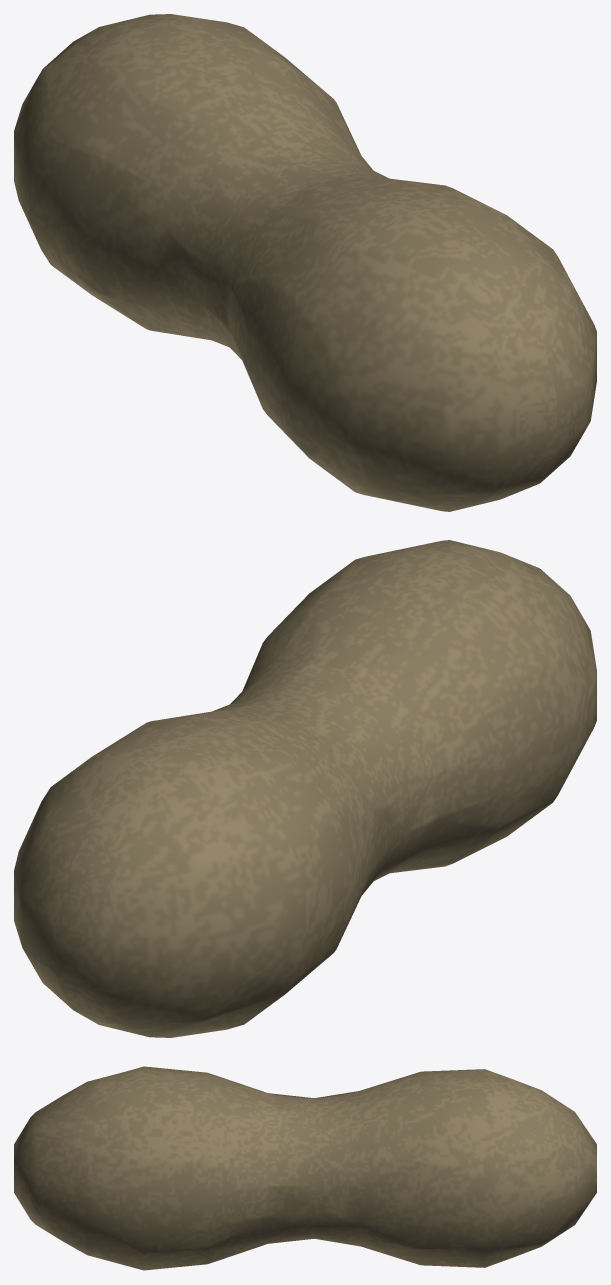
The model's file is peanut.glb.
3 views of the same model, one above another, from view 1: azimuth 30°, elevation 25°; view 2: azimuth 150°, elevation 25°; view 3: azimuth 270°, elevation 25° (orthographic). The views are drawn at different scales.
Visible parts, largest first — view 1: Erdnuss_lp_0; view 2: Erdnuss_lp_0; view 3: Erdnuss_lp_0.
Part boxes in pixels (x1,y1,x2,y2): Erdnuss_lp_0: [14, 14, 596, 511]; Erdnuss_lp_0: [14, 540, 596, 1037]; Erdnuss_lp_0: [14, 1066, 596, 1270].
Bounding box in the file's own units: 0.7442 × 0.6987 × 2.05.
1 material, 1 textured.
